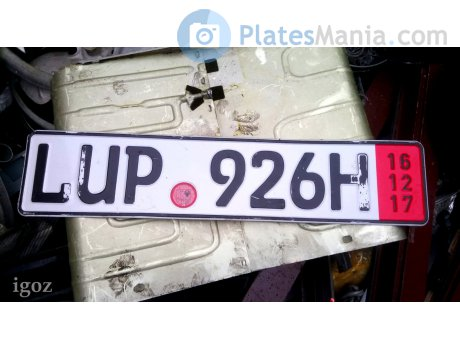License Plates: (30, 139, 380, 211)
